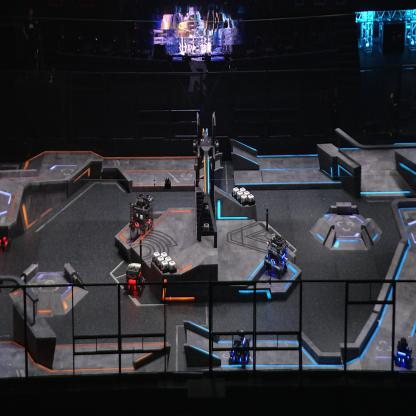car: (264, 232, 290, 279), (128, 193, 154, 236), (227, 329, 251, 369), (123, 261, 147, 297), (392, 336, 413, 367), (0, 222, 11, 255)
